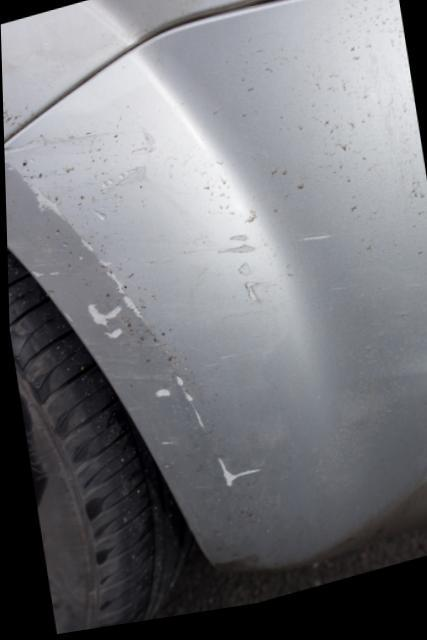scratch: (3, 130, 324, 495)
